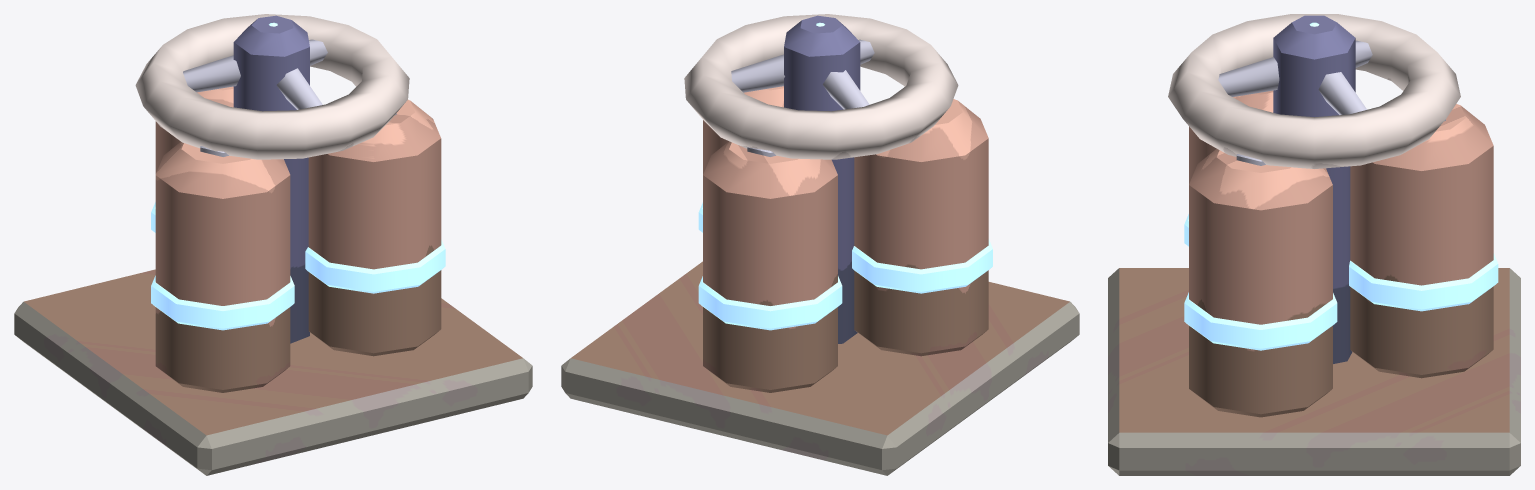
File: R4X_ChargeRegenerator_LOD1.glb
3 renders of one model, left to right at view 1: azimuth 30°, elevation 25°; view 2: azimuth 150°, elevation 25°; view 3: azimuth 270°, elevation 25°, orthographic. The views are drawn at different scales.
Parts seen in each view (by area): view 1: R4X_ChargeRegenerator_LOD1; view 2: R4X_ChargeRegenerator_LOD1; view 3: R4X_ChargeRegenerator_LOD1.
Boxes of the visible parts, x1,y1,x2,y2 form: R4X_ChargeRegenerator_LOD1: (14,14,532,475); R4X_ChargeRegenerator_LOD1: (561,14,1079,475); R4X_ChargeRegenerator_LOD1: (1108,14,1520,475).
Size of the model in its own units: 0.52 by 0.515 by 0.52.
5 materials, 4 textured.
